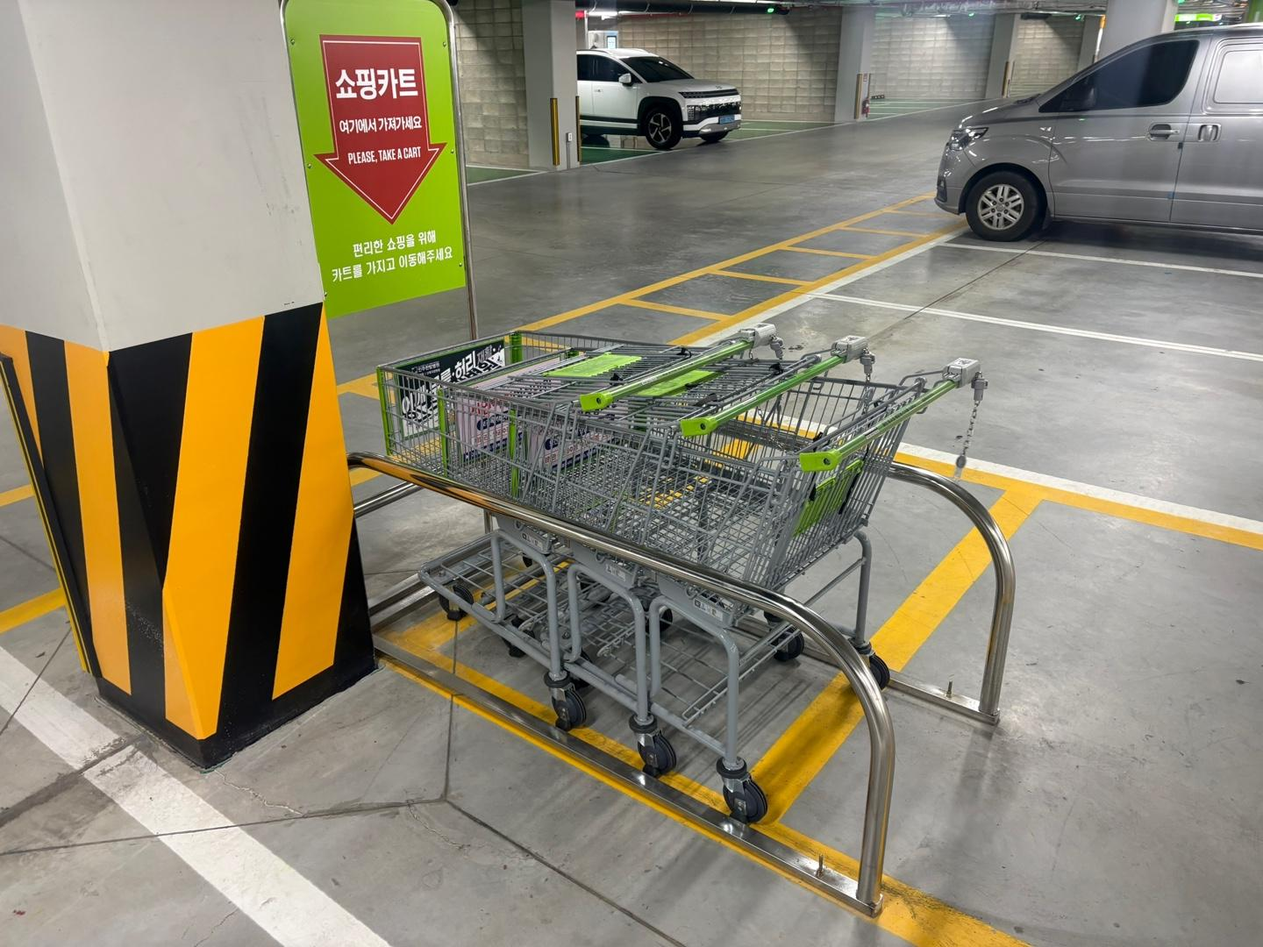combined_cart: (351, 320, 1020, 918)
